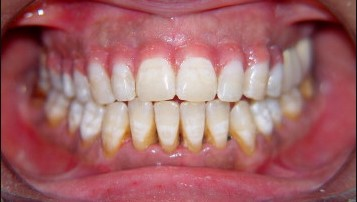LL1BC_mdecay: (254, 97, 273, 138)
LL1M_mdecay: (282, 90, 307, 117)
LL2BC_mdecay: (272, 99, 284, 125)
LLCI_mdecay: (180, 99, 206, 154)
LLC_mdecay: (231, 100, 258, 159)
LLLI_mdecay: (207, 99, 230, 152)
LR1BC_mdecay: (81, 102, 103, 144)
LR1M_mdecay: (44, 93, 68, 128)
LR2BC_mdecay: (68, 102, 83, 137)
LRCI_mdecay: (153, 102, 181, 157)
LRC_mdecay: (103, 103, 131, 157)
LRLI_mdecay: (129, 101, 156, 150)
UL1BC_healthy: (269, 59, 285, 99)
UL1M_healthy: (299, 41, 317, 73)
UL2BC_healthy: (285, 52, 303, 88)
ULCI_healthy: (177, 57, 217, 102)
ULC_healthy: (244, 61, 269, 101)
ULLI_healthy: (217, 59, 243, 101)
UR1BC_healthy: (74, 71, 91, 103)
UR1M_healthy: (49, 67, 63, 93)
UR2BC_healthy: (62, 70, 74, 98)
URCI_healthy: (135, 55, 176, 101)
URC_healthy: (87, 60, 112, 105)
URLI_healthy: (112, 62, 137, 102)
